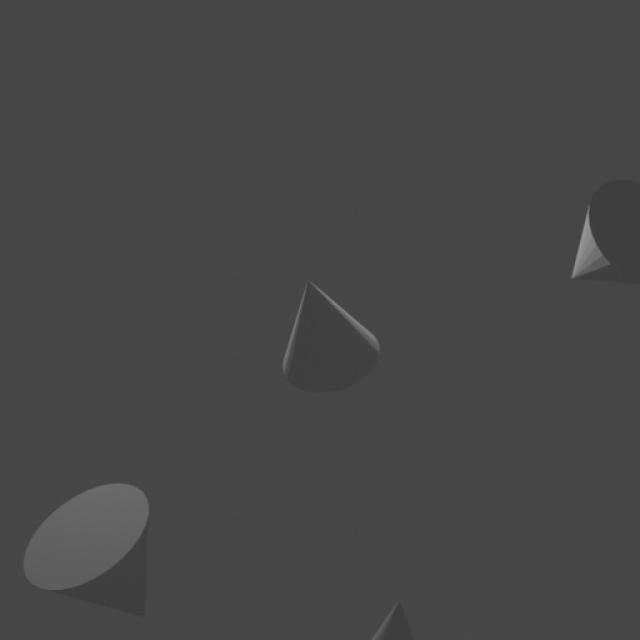Cone: (24, 484, 148, 618), (284, 280, 379, 392), (571, 180, 639, 284), (371, 600, 414, 640)
